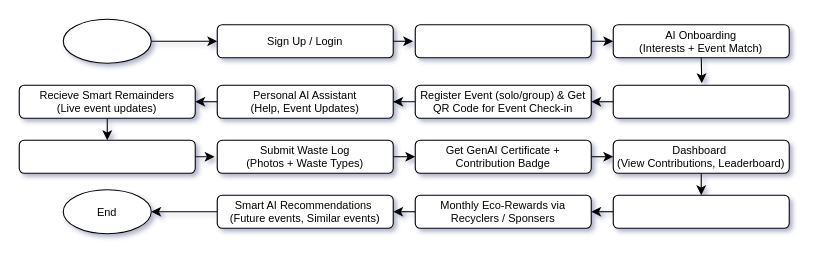
Image size: 815x260. Some labels were removed from this diagram. The shapes that lost their labels are listed below. From the top down, each one's centre as x and y in pixels, then its label:
At (x=106, y=40): "Start".
At (x=502, y=41): "Verify ID (Govt/ College)".
At (x=700, y=101): "View Event (Event details, Safety tips, Equipments, Waste Videos)".
At (x=106, y=156): "Attend Event & Check-in (QR/ OTP)".
At (x=700, y=211): "Join Volunteer Community".
